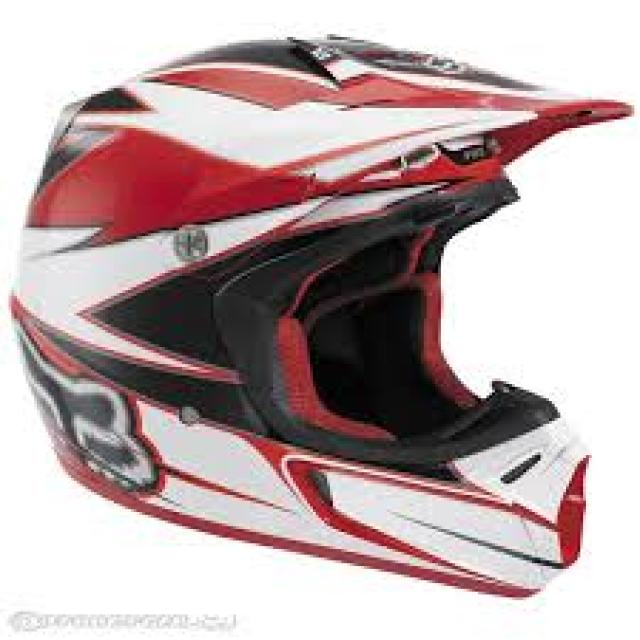Helmet: (10, 36, 632, 597)
